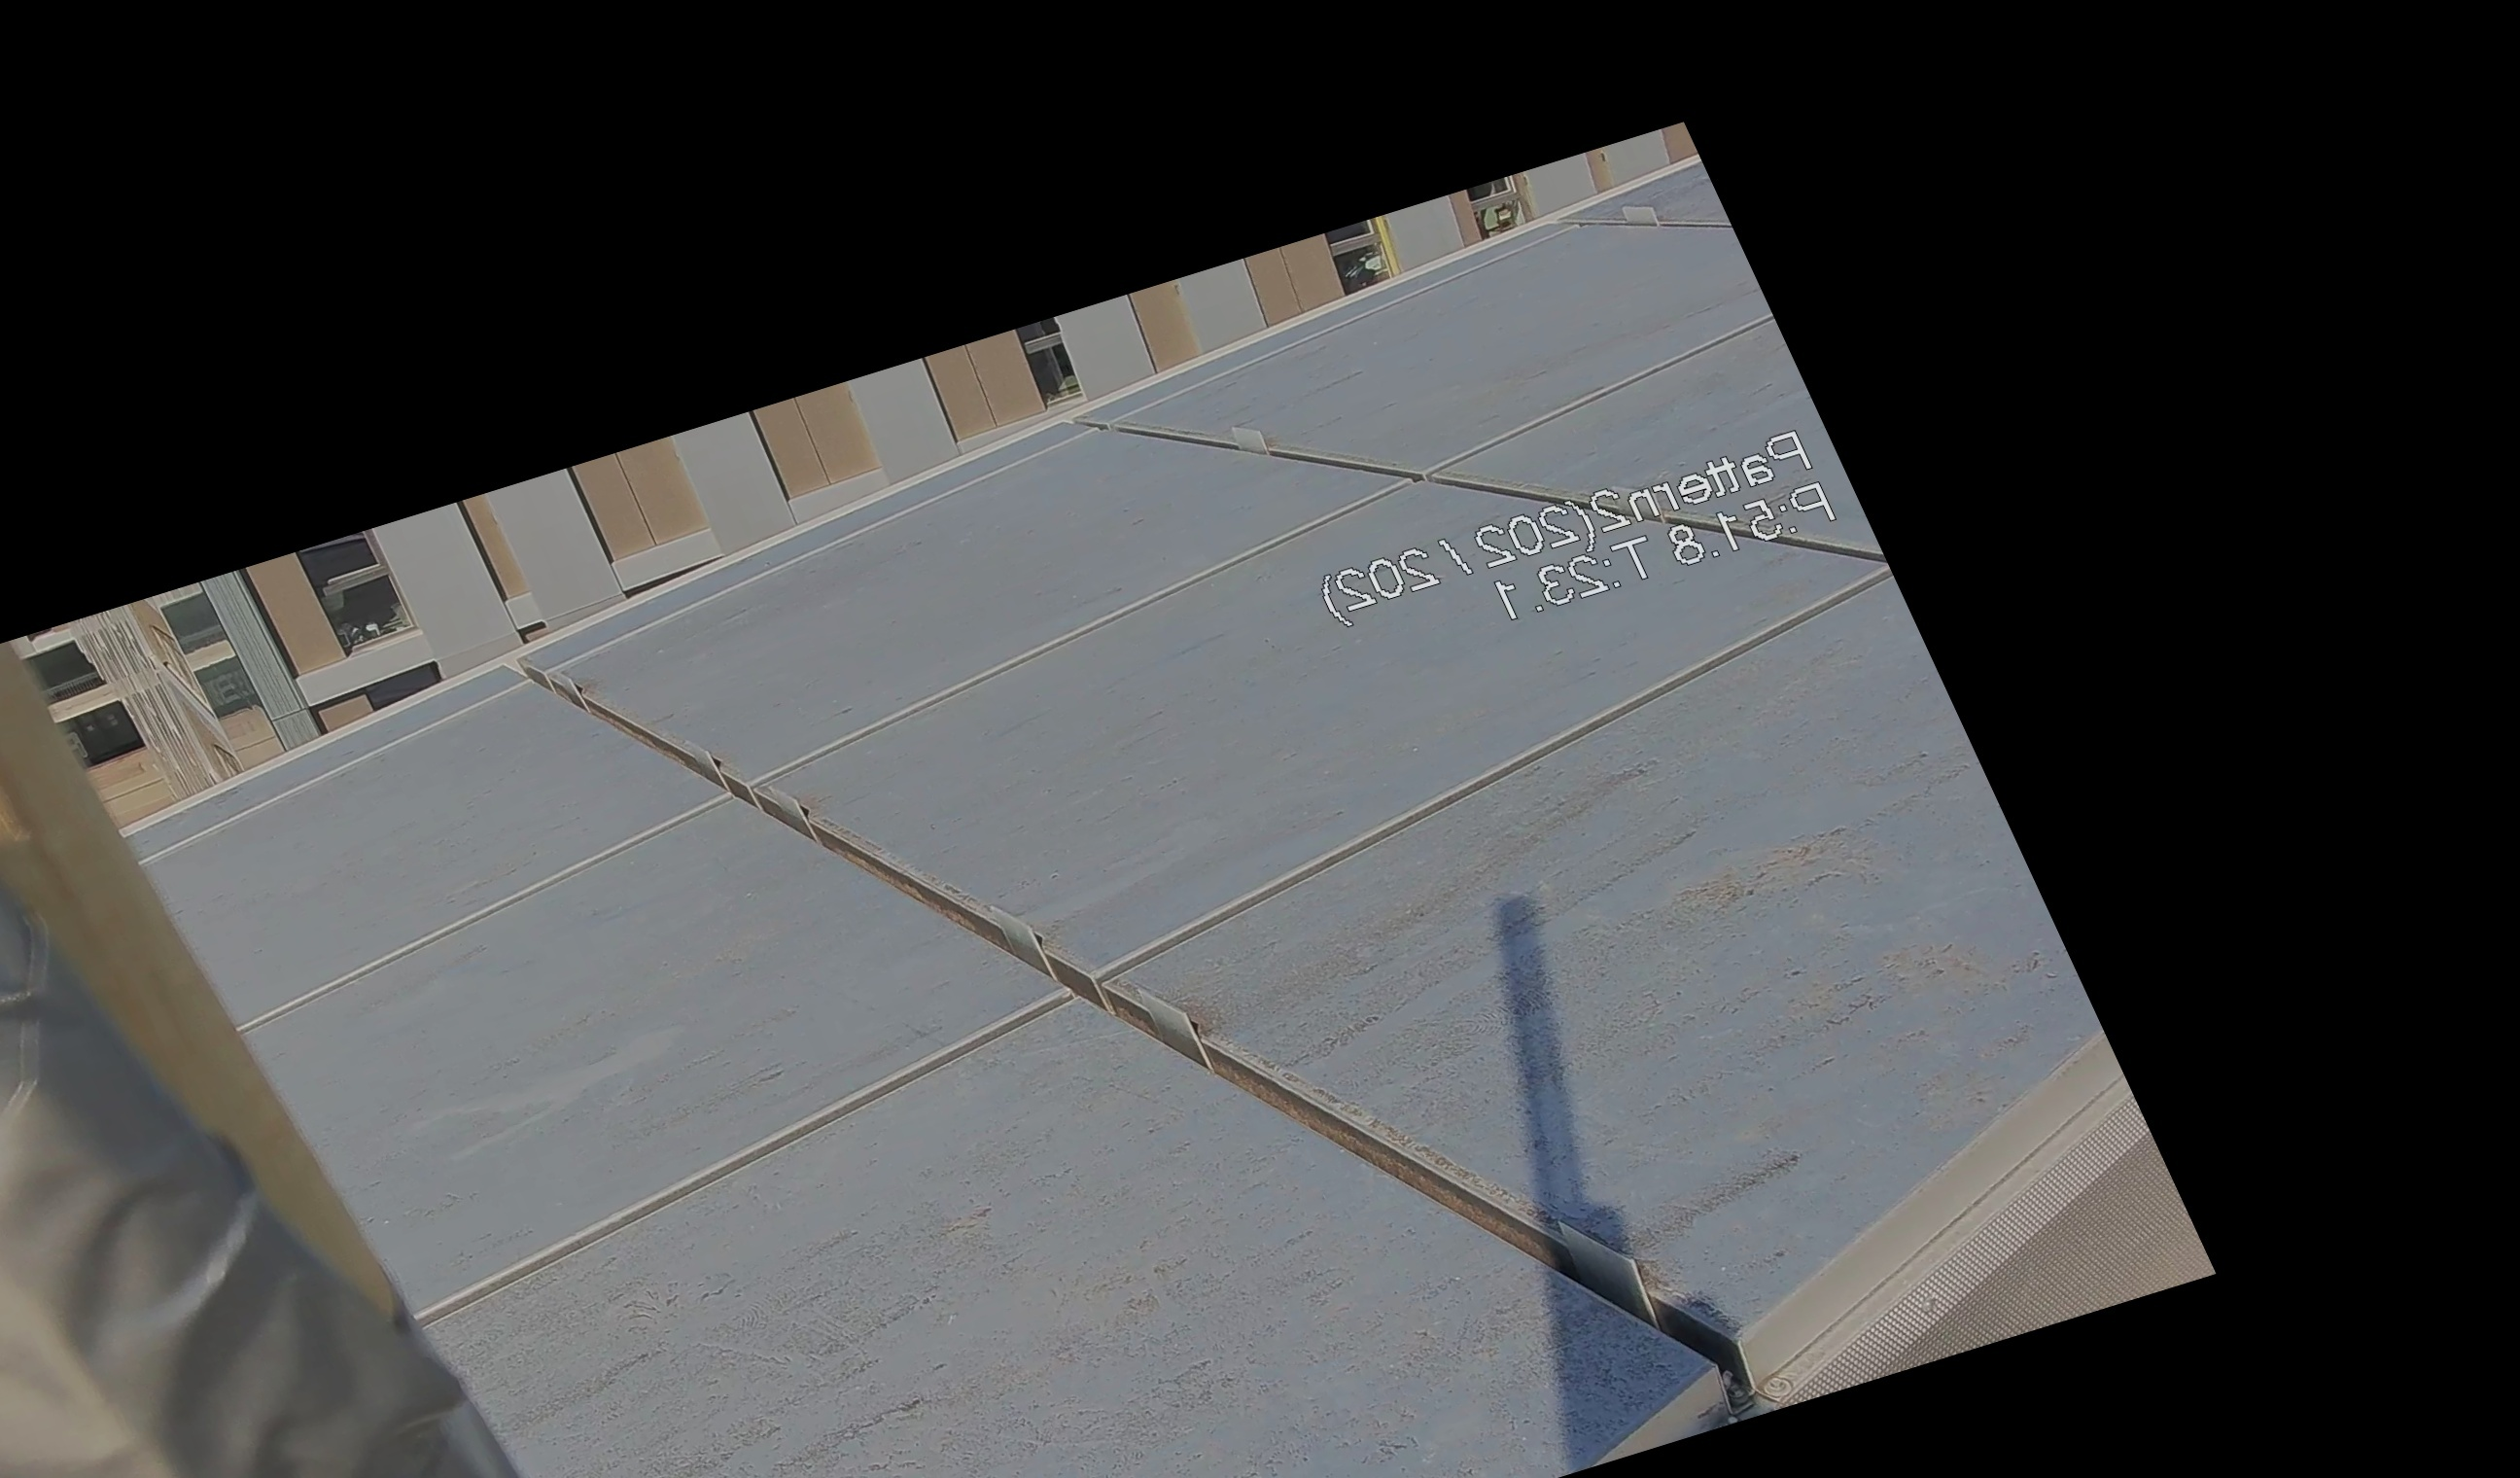Other: (0, 530, 603, 1478)
